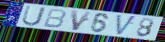6: (89, 13, 112, 34)
8: (135, 17, 155, 38)
B: (42, 8, 67, 29)
U: (21, 5, 47, 27)
V: (116, 14, 138, 37), (70, 9, 93, 31)
